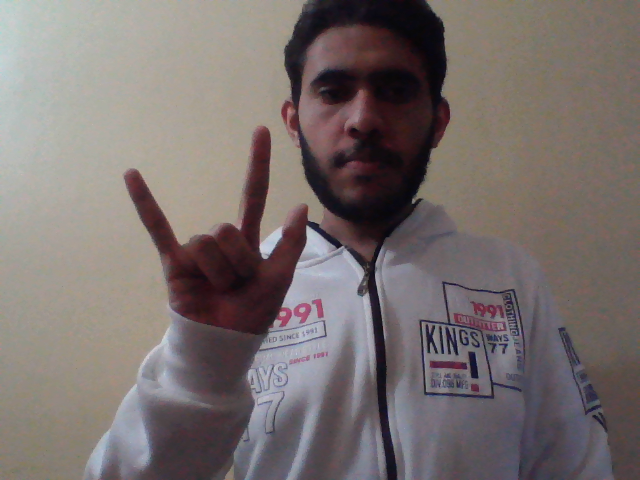iloveyou: (122, 118, 309, 349)
